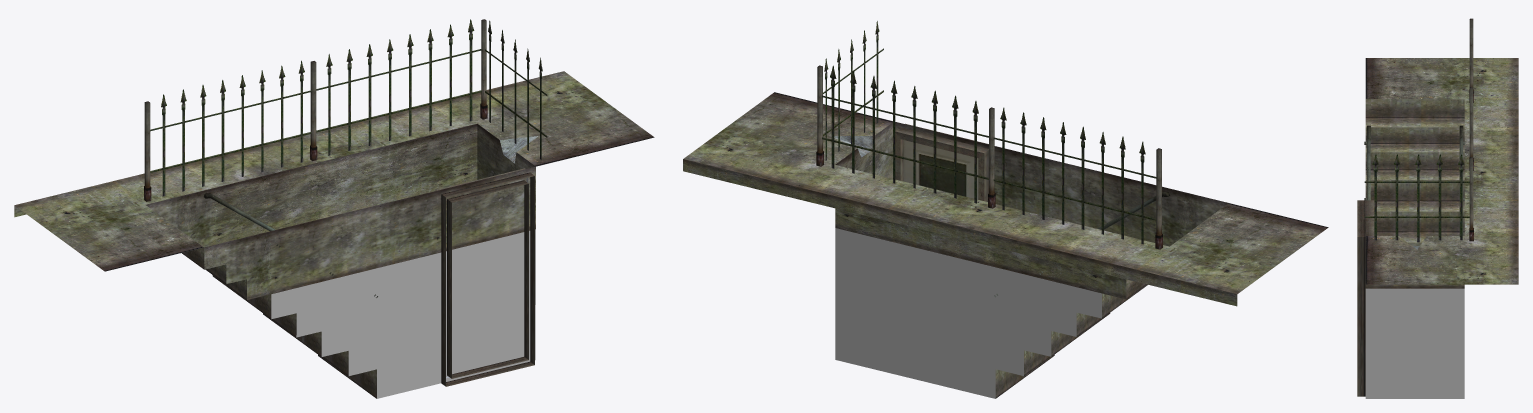
File: Trottoir_08.fbx
3 renders of one model, left to right at view 1: azimuth 30°, elevation 25°; view 2: azimuth 150°, elevation 25°; view 3: azimuth 270°, elevation 25°, orthographic. The views are drawn at different scales.
Parts seen in each view (by area): view 1: Trottoir_08; view 2: Trottoir_08; view 3: Trottoir_08.
Part boxes in pixels (x1=…): Trottoir_08: x1=14, y1=19, x2=654, y2=398; Trottoir_08: x1=683, y1=21, x2=1328, y2=398; Trottoir_08: x1=1357, y1=18, x2=1518, y2=398.
Bounding box in the file's own units: 700 × 361 × 211.
